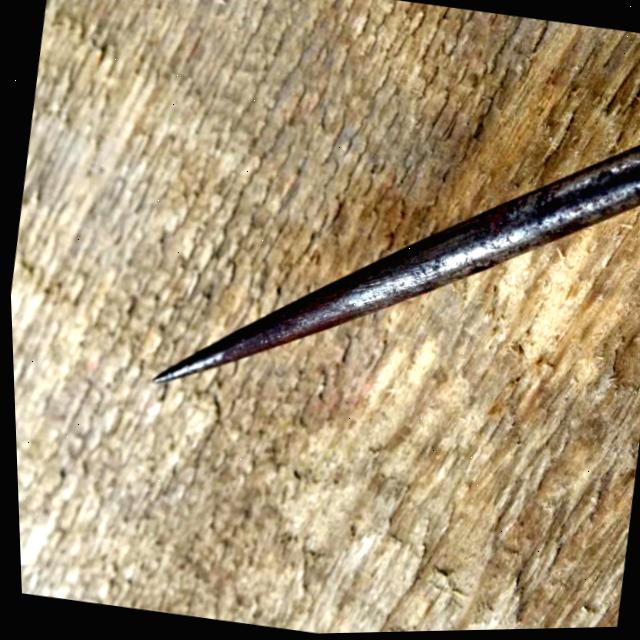ice pick: (143, 47, 640, 456)
